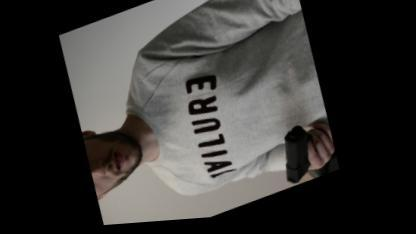pistol: (274, 124, 328, 192)
